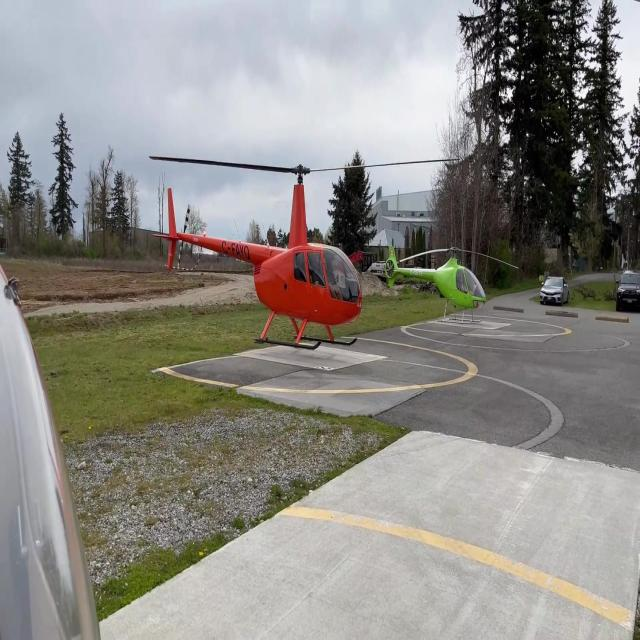CIV_HELO: (151, 160, 364, 356)
